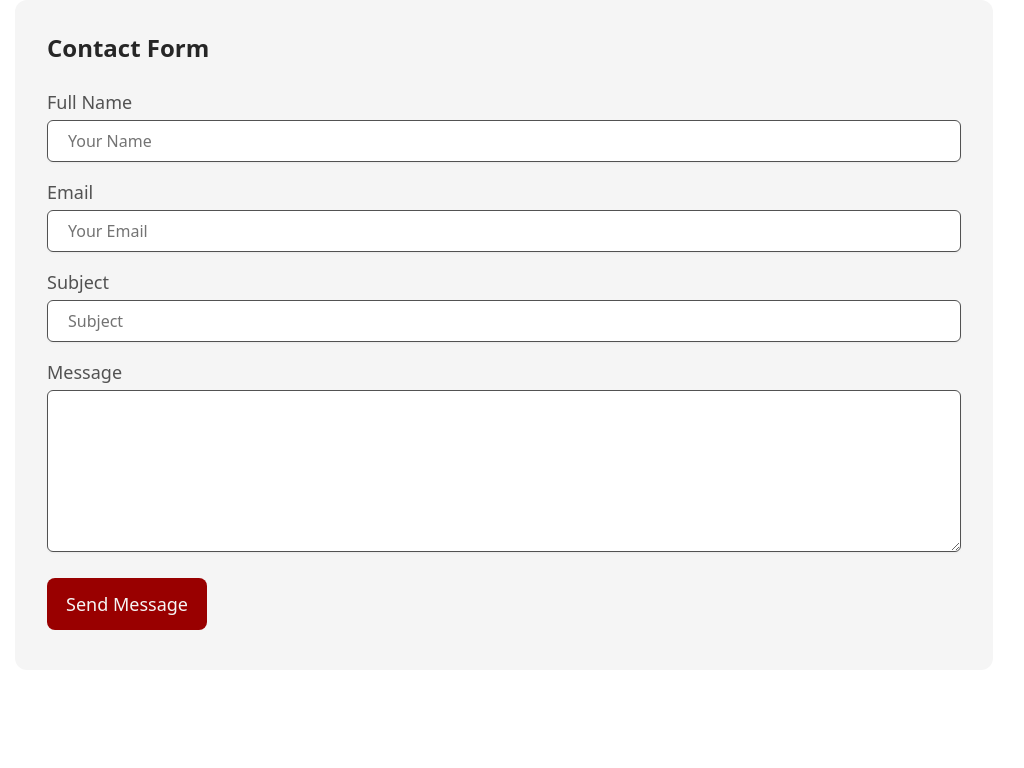
Test: ContactForm › shows error message when the API returns an error
Type "Jane Doe" into the field labelled "Name" at (504, 141), box [47,120,961,162]
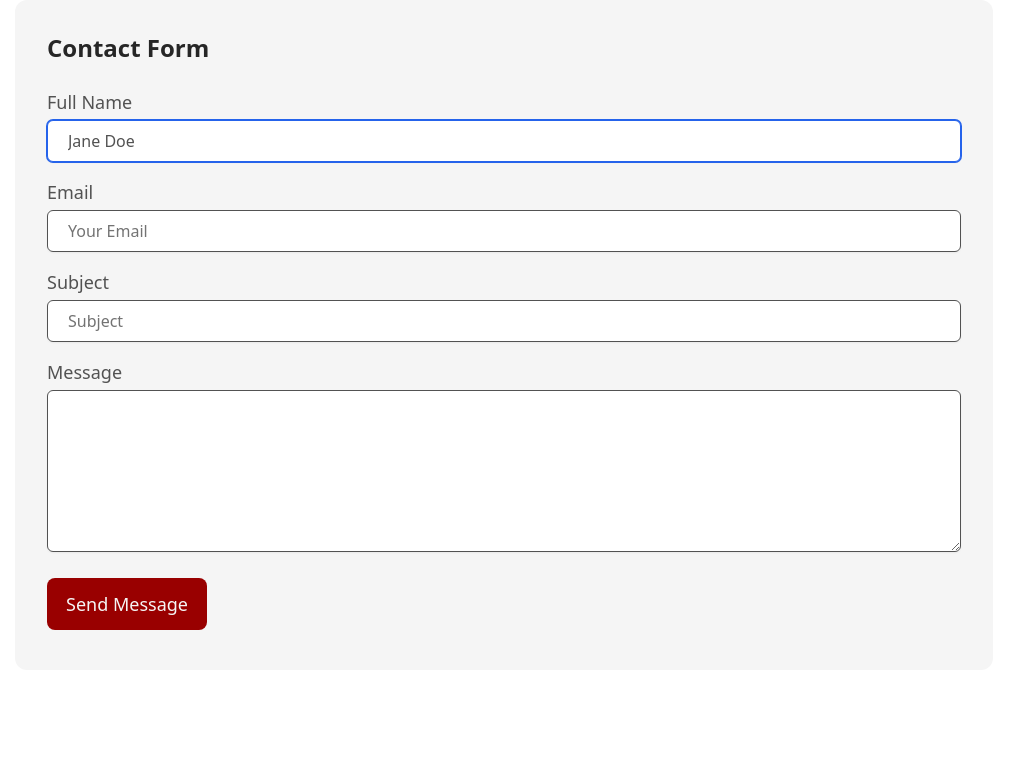
Type "jane@example.com" into the field labelled "Email" at (504, 231), box [47,210,961,252]
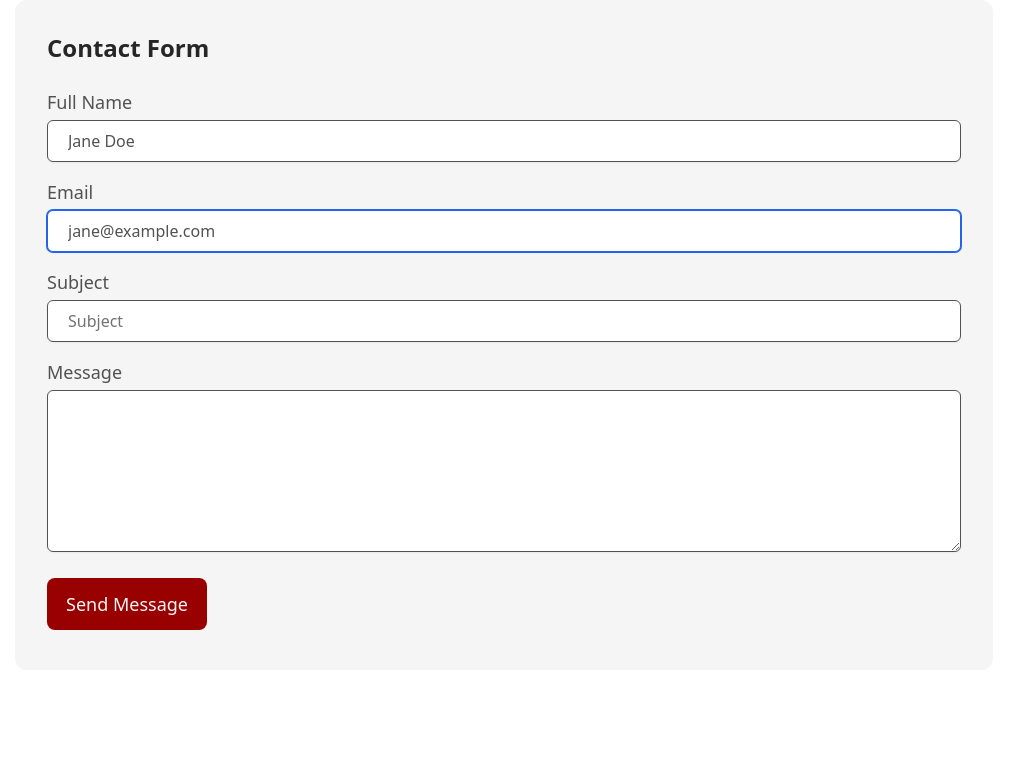
Type "Hello" into the field labelled "Subject" at (504, 321), box [47,300,961,342]
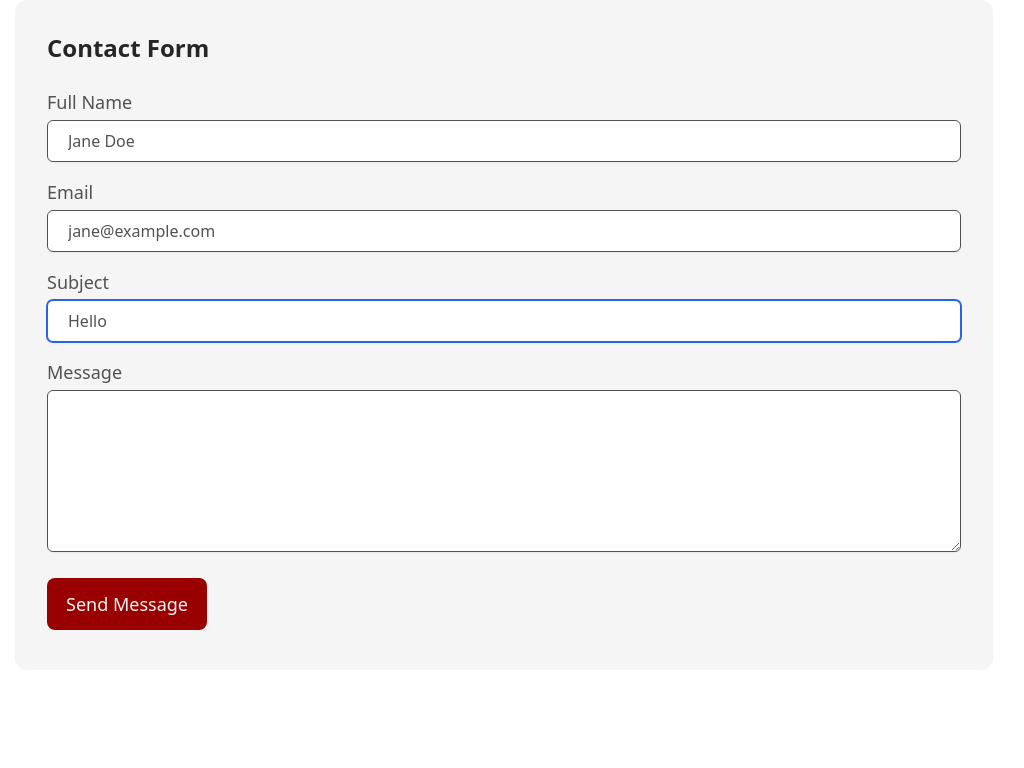
Type "Test message body." into the text box labelled "Message" at (504, 471), box [47,390,961,552]
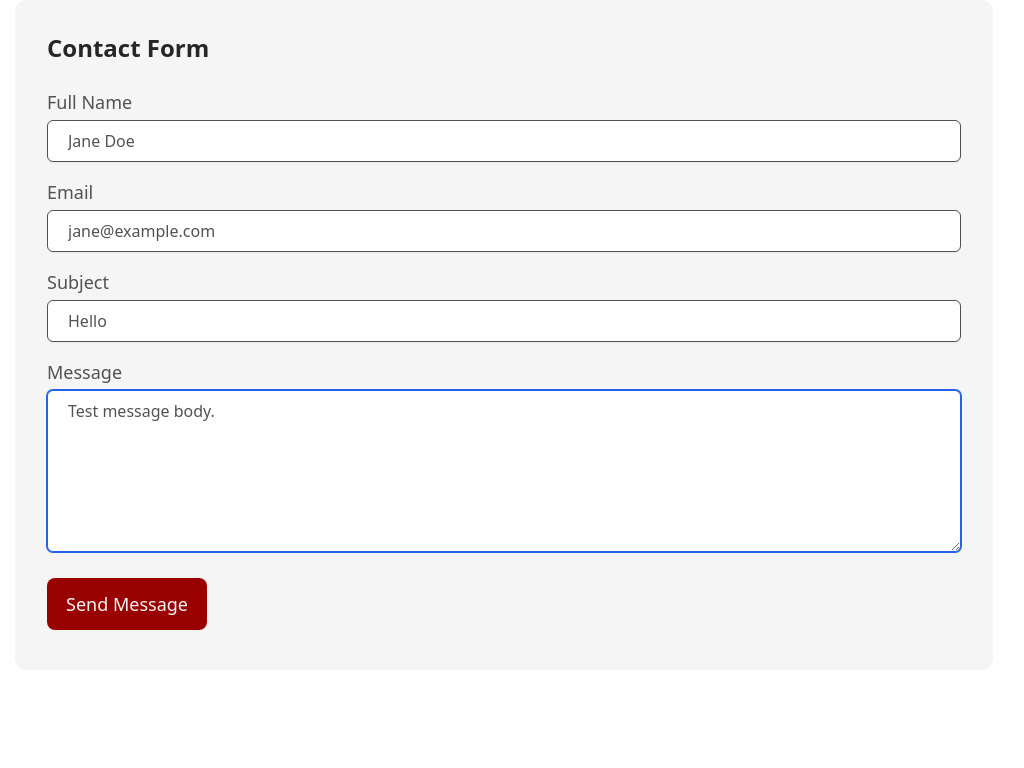
Click the button "Send Message" at (127, 604), box [47,578,207,630]
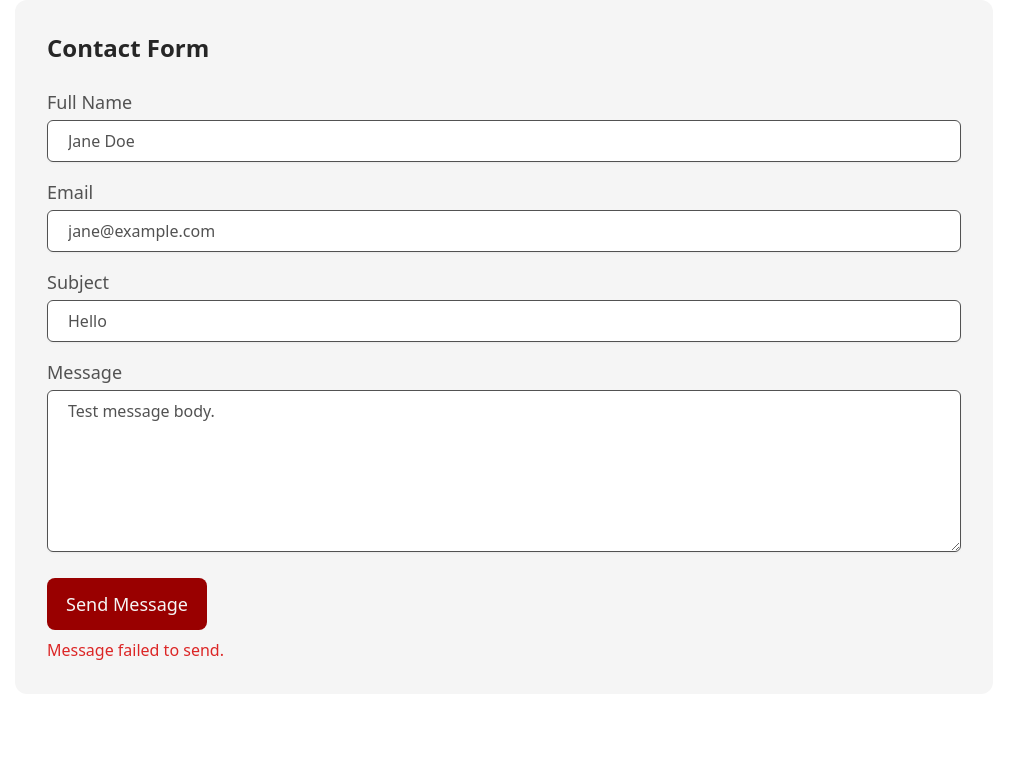
Check: the message reads "Message failed to send.", box [47,639,224,661]
